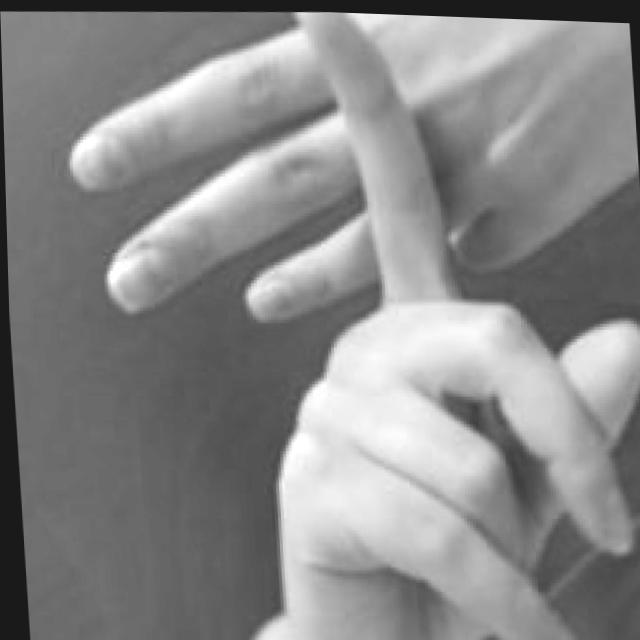E: (56, 2, 640, 640)
